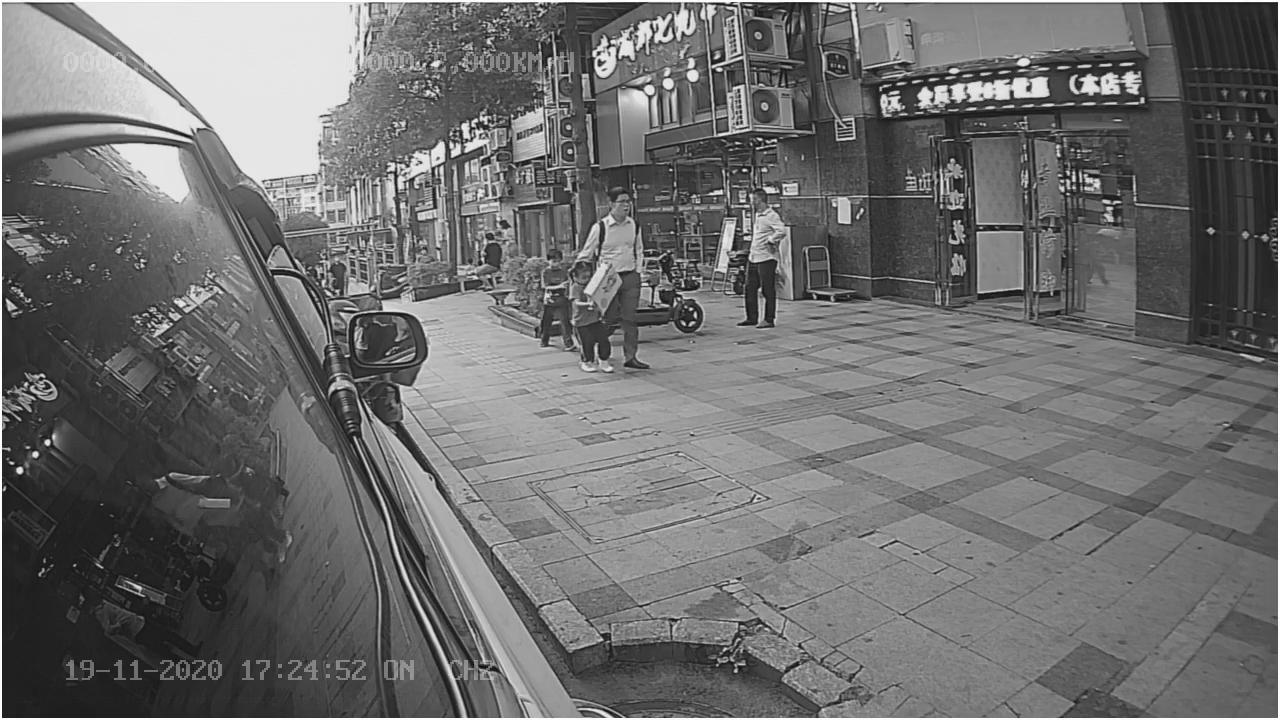person: (577, 178, 651, 273), (530, 246, 575, 359)
